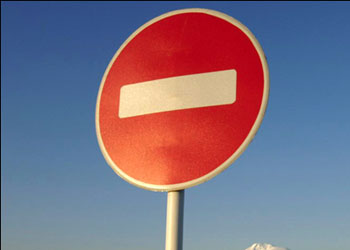No_entry: (95, 8, 269, 191)
